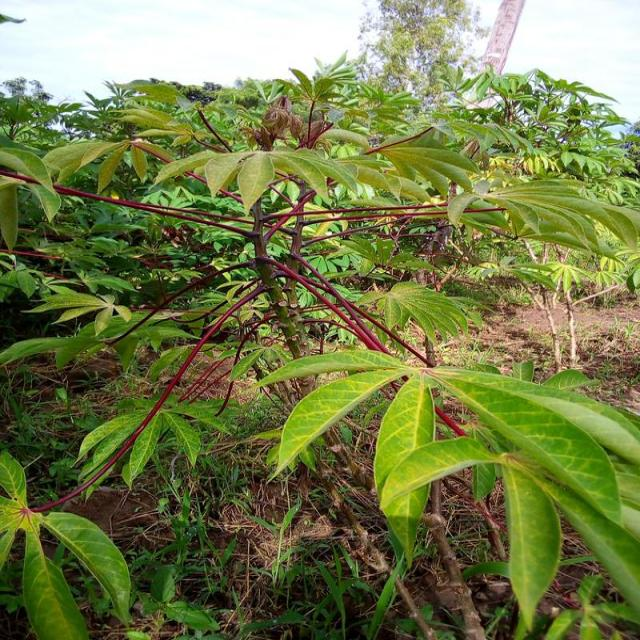cassava leaf: (374, 370, 436, 571)
